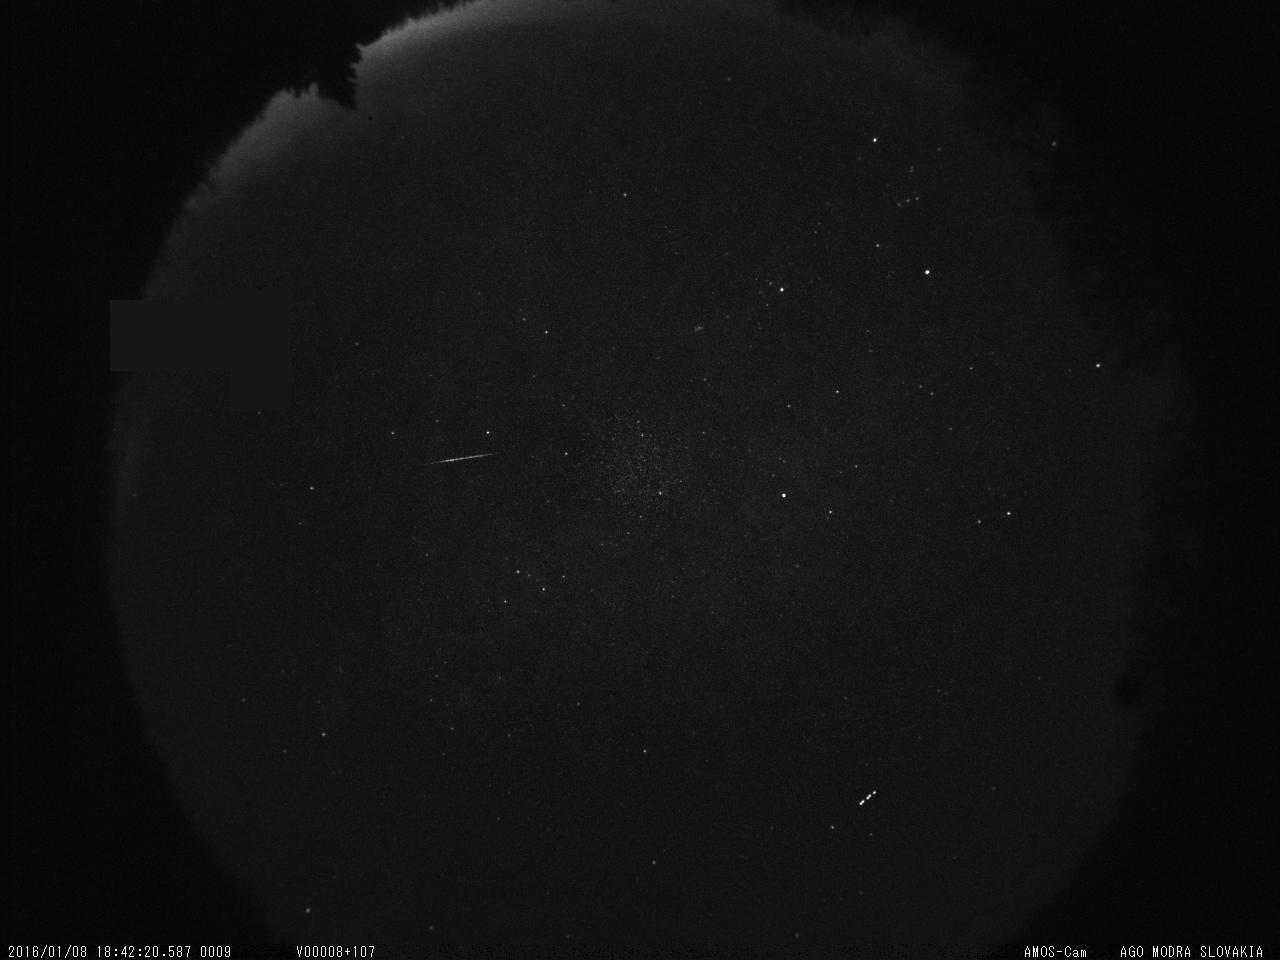meteor: (410, 446, 508, 479)
